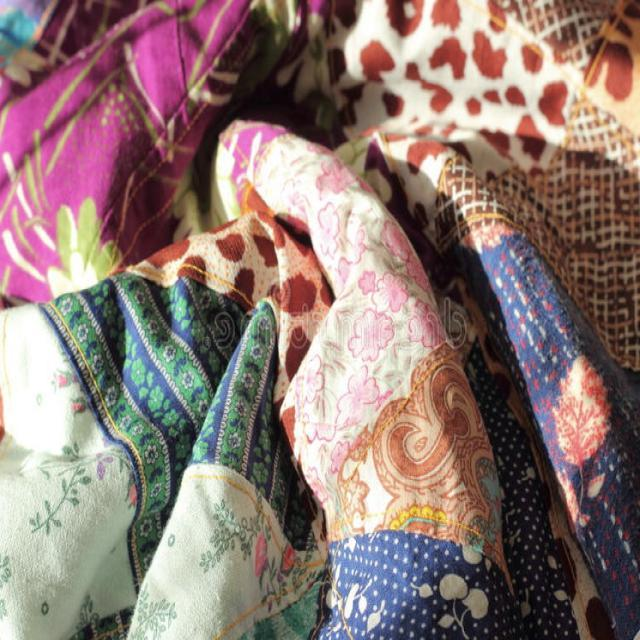clothes: (28, 35, 635, 628)
